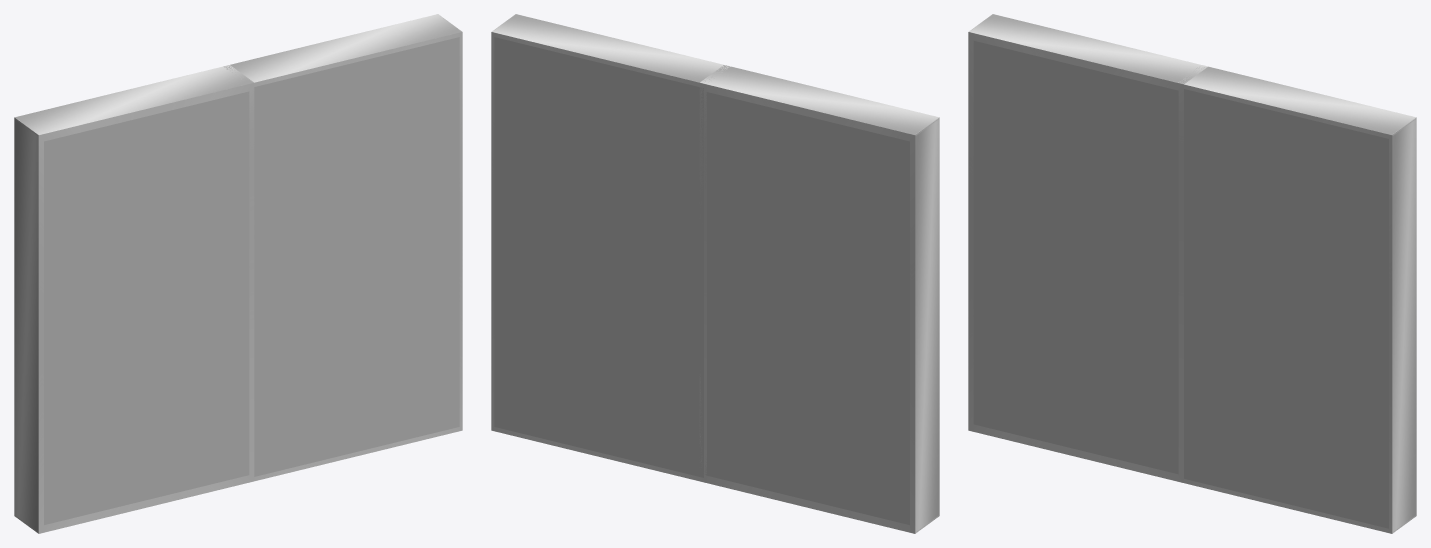
Rendered from Door1.fbx.
The picture shows the model from 3 angles, left to right: view 1: azimuth 30°, elevation 25°; view 2: azimuth 150°, elevation 25°; view 3: azimuth 330°, elevation 25°; orthographic projection.
Visible parts, largest first — view 1: Box001, Box002; view 2: Box001, Box002; view 3: Box002, Box001.
Part boxes in pixels (<box>): Box001: <box>14,65,254,533</box>; Box002: <box>223,14,462,481</box>; Box001: <box>699,65,939,533</box>; Box002: <box>491,14,730,482</box>; Box002: <box>1178,66,1416,533</box>; Box001: <box>968,14,1207,482</box>.
Bounding box in the file's own units: 100 × 90 × 10.
2 materials, 1 textured.
